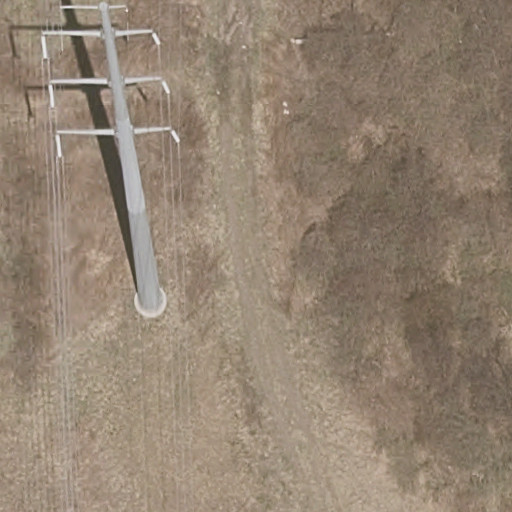TT: (41, 1, 181, 319)
